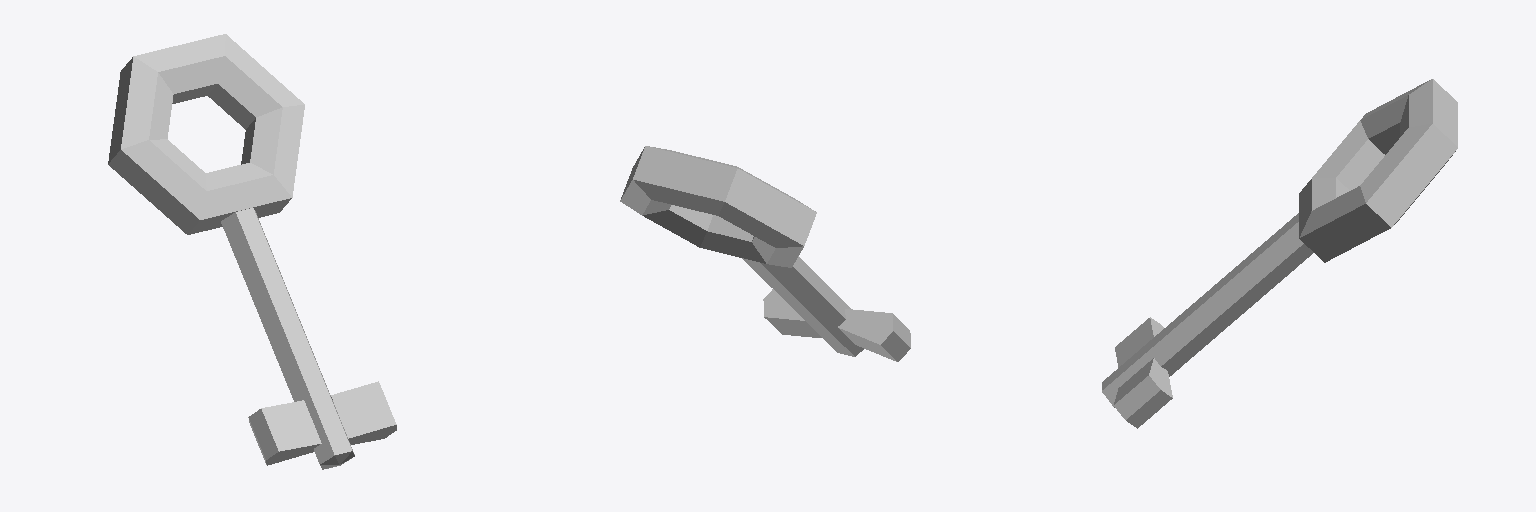
Rendered from keyOGA.obj.
The picture shows the model from 3 angles: view 1: azimuth 30°, elevation 25°; view 2: azimuth 150°, elevation 25°; view 3: azimuth 270°, elevation 25°; orthographic projection.
Parts seen in each view (by area): view 1: Circle.016; view 2: Circle.016; view 3: Circle.016.
Part boxes in pixels (bbox=[...]): Circle.016: bbox=[108, 34, 396, 469]; Circle.016: bbox=[620, 146, 910, 361]; Circle.016: bbox=[1102, 79, 1457, 428].
Size of the model in its own units: 0.0661 by 0.1062 by 0.1108.